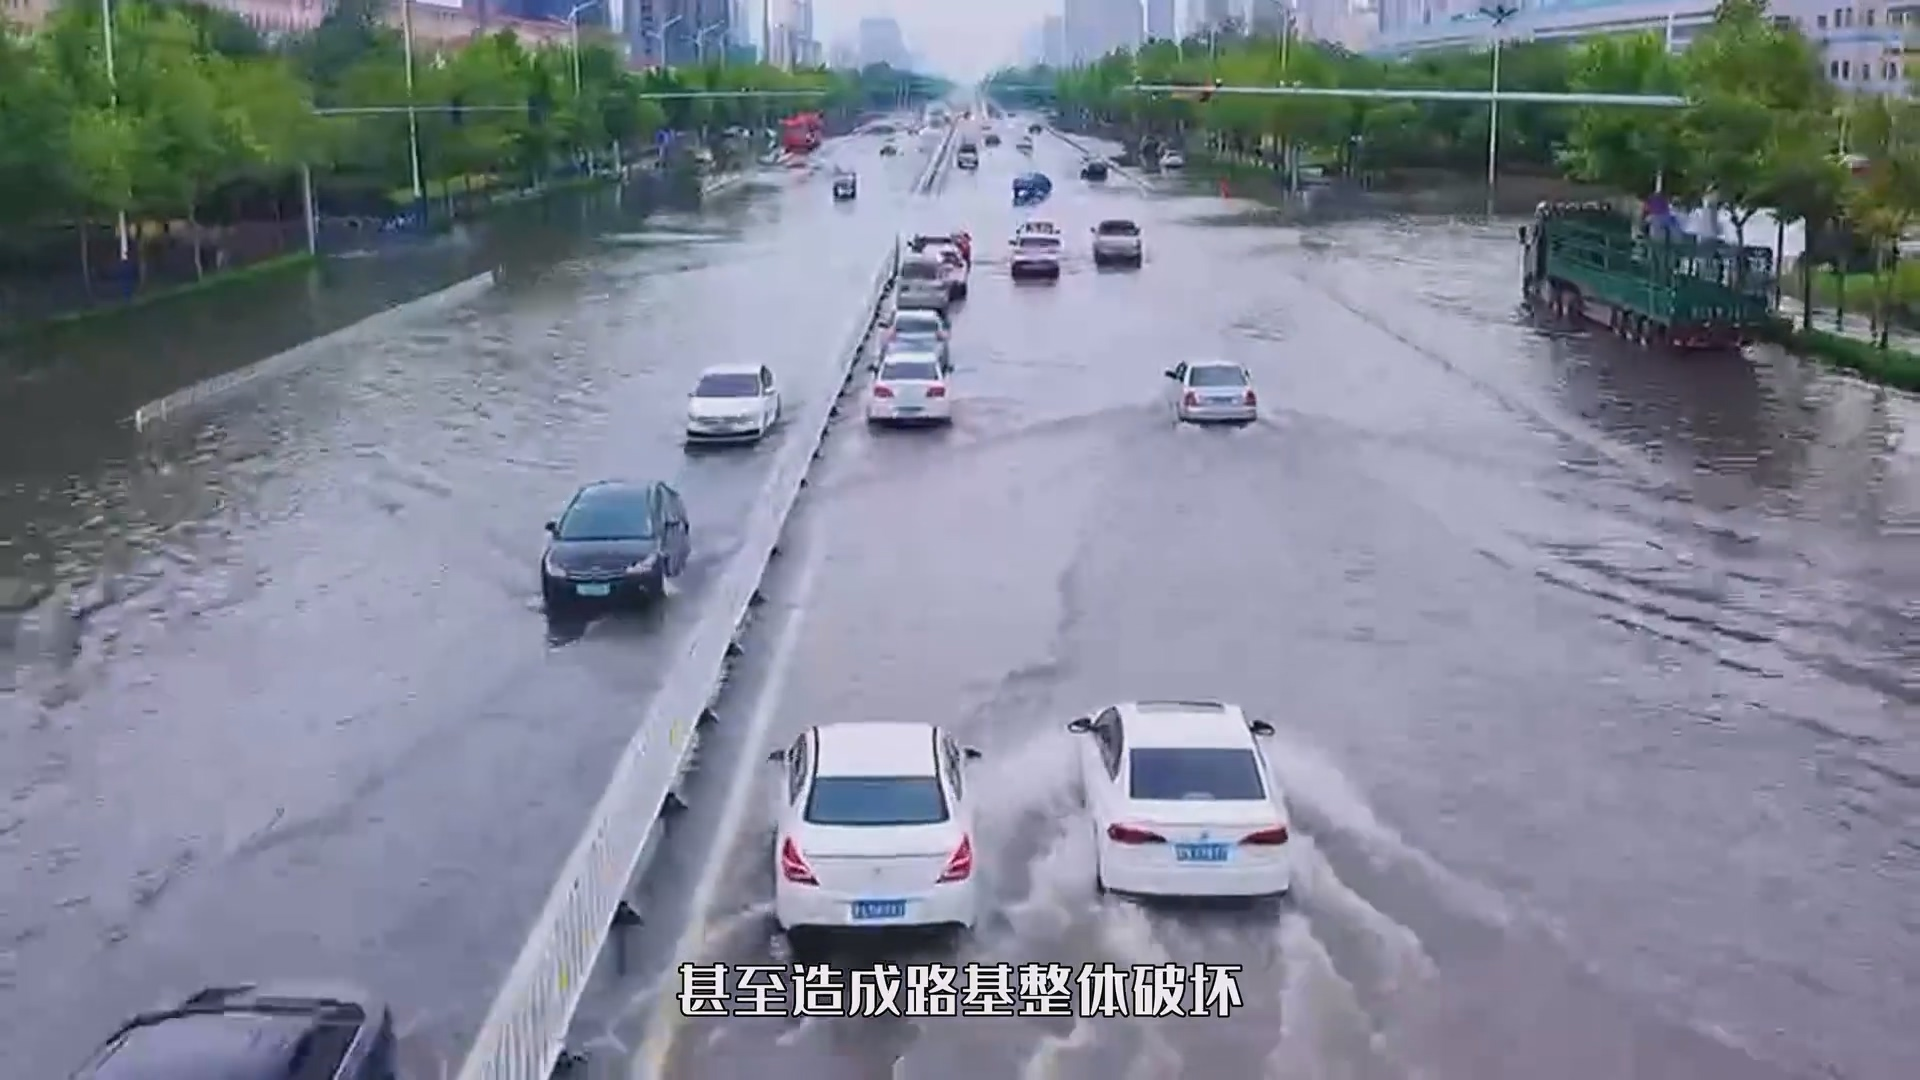puddle: (1, 290, 1920, 1080)
